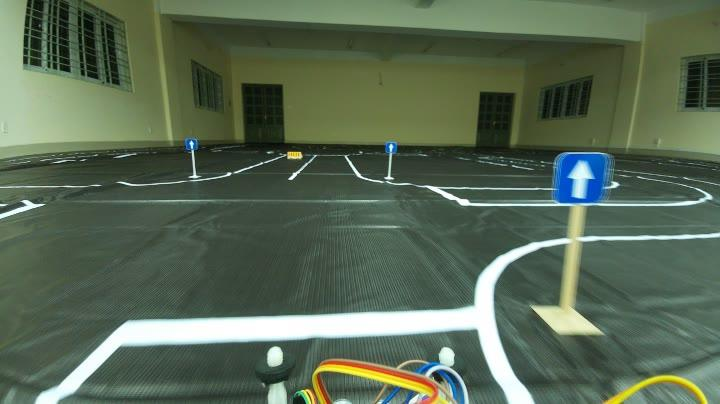onewayroad: (551, 152, 611, 212), (382, 140, 399, 154), (184, 139, 199, 147)
roadblock: (284, 150, 304, 162)
